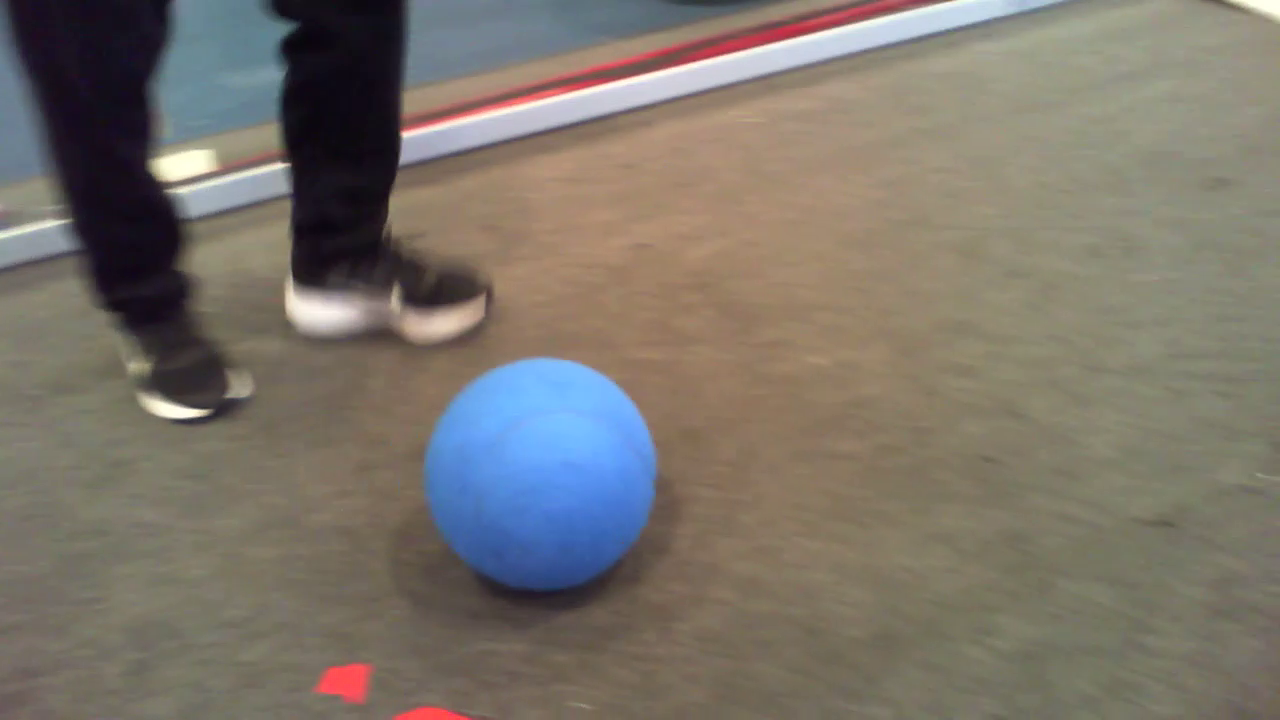blue_cargo: (430, 354, 670, 586)
